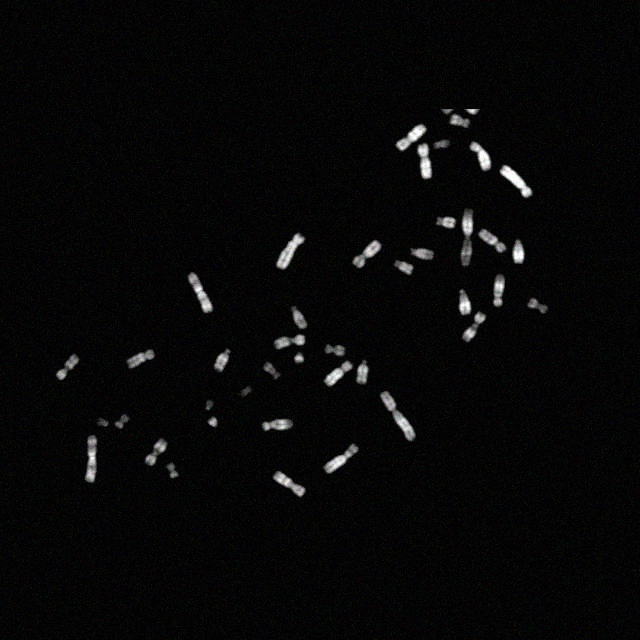chromosome: (381, 392, 415, 441), (500, 166, 532, 198), (277, 233, 305, 269), (188, 273, 212, 313), (324, 445, 358, 473), (396, 123, 426, 151), (273, 471, 305, 497), (353, 240, 381, 268), (325, 359, 353, 386), (462, 312, 486, 342), (478, 229, 506, 253), (146, 438, 168, 466), (57, 355, 79, 381), (470, 142, 490, 170), (462, 210, 472, 266), (85, 436, 97, 482), (417, 144, 431, 178), (128, 350, 154, 368), (276, 334, 304, 348), (262, 418, 292, 430), (291, 306, 307, 328), (215, 349, 231, 371), (494, 274, 504, 306), (528, 298, 548, 314), (458, 289, 470, 315), (394, 260, 414, 274), (411, 248, 434, 260), (449, 114, 468, 128), (264, 362, 280, 378), (514, 240, 524, 264), (115, 414, 129, 430), (358, 361, 368, 383), (437, 216, 455, 228), (326, 346, 344, 356), (168, 463, 180, 477), (239, 386, 251, 398), (295, 352, 305, 364), (435, 140, 449, 148), (98, 418, 109, 428), (208, 417, 218, 427), (205, 400, 212, 410)
